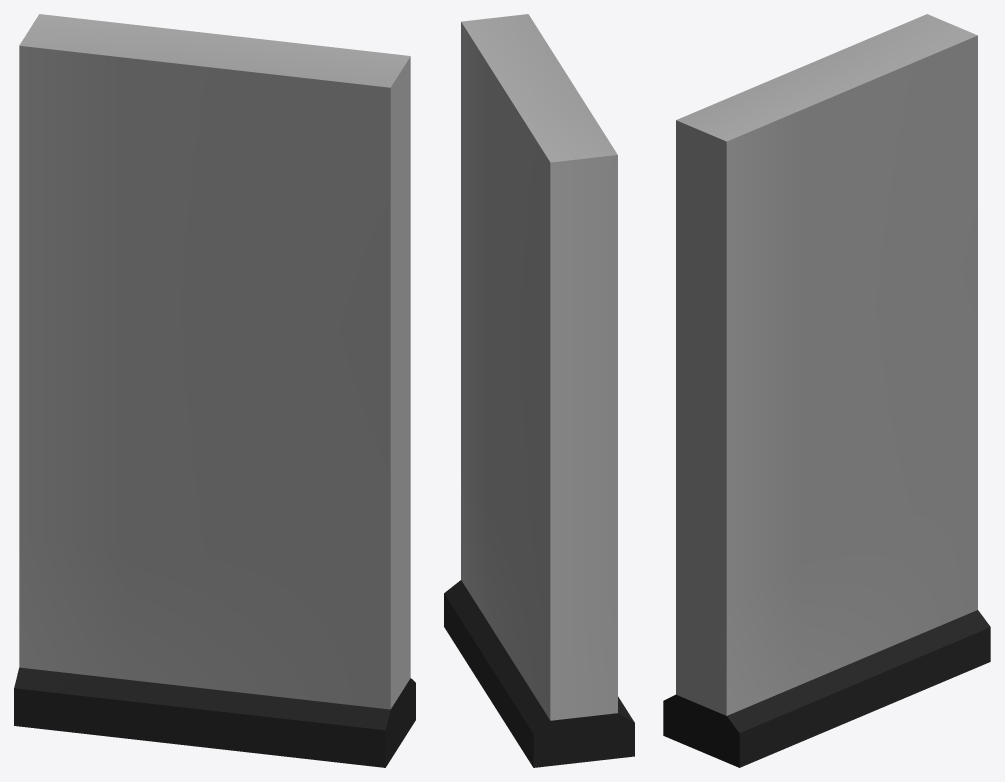
Rendered from Wall 45.glb.
3 views of the same model, side by side, from view 1: azimuth 30°, elevation 25°; view 2: azimuth 150°, elevation 25°; view 3: azimuth 270°, elevation 25° (orthographic). The views are drawn at different scales.
Visible parts, largest first — view 1: Wall45; view 2: Wall45; view 3: Wall45.
Boxes of the visible parts, x1=… form: Wall45: x1=14, y1=14, x2=415, y2=767; Wall45: x1=444, y1=14, x2=634, y2=767; Wall45: x1=663, y1=14, x2=990, y2=767.
Size of the model in its own units: 1.29 by 2.7 by 1.29.
1 material, 1 textured.
